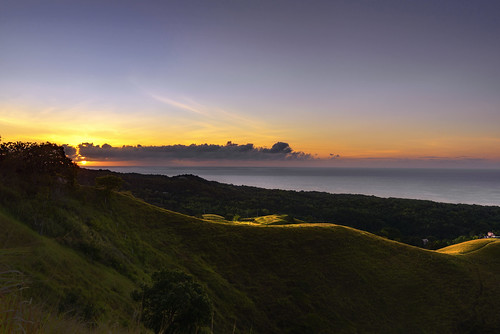grass: (2, 190, 500, 334)
sky: (5, 1, 500, 138)
